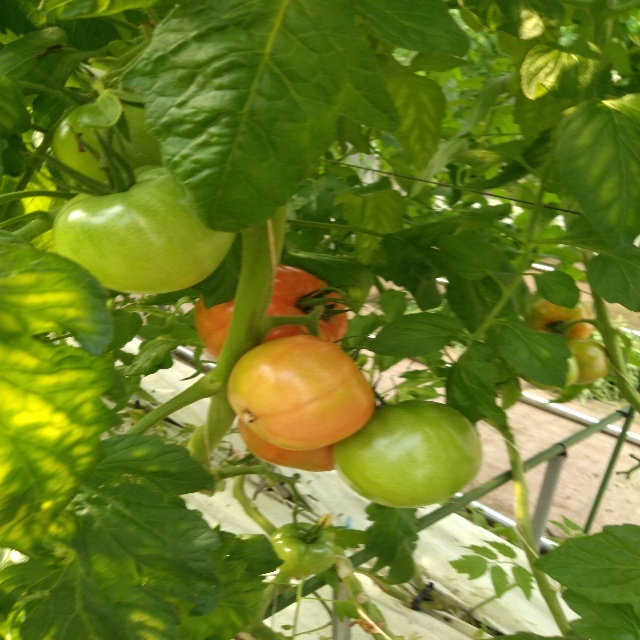b_green: (51, 165, 236, 294), (332, 400, 483, 508), (53, 92, 163, 188), (268, 522, 335, 577), (564, 337, 610, 384)
b_half_ripened: (226, 335, 376, 451), (195, 263, 347, 367), (237, 418, 335, 472), (524, 296, 595, 339)
